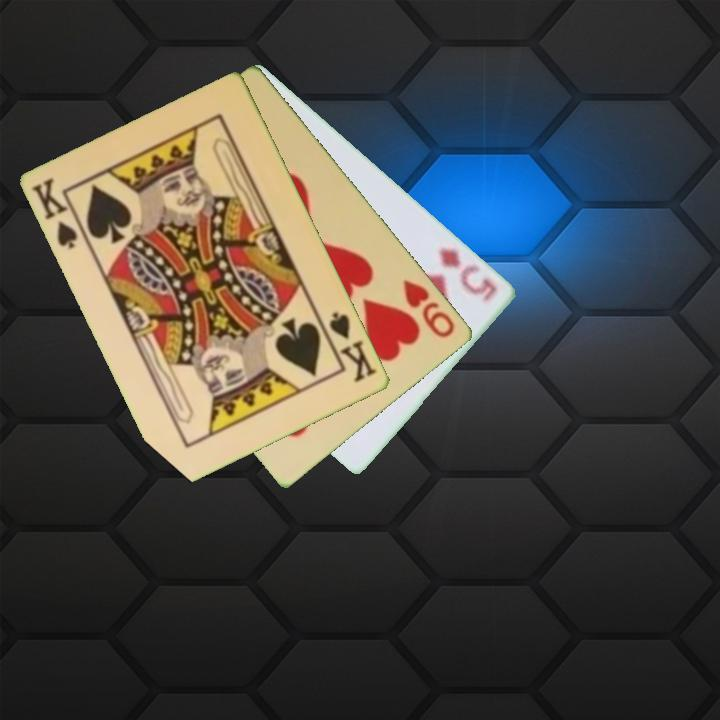5d: (435, 243, 501, 306)
9h: (400, 275, 459, 341)
Ks: (318, 308, 380, 386), (29, 174, 91, 252)
